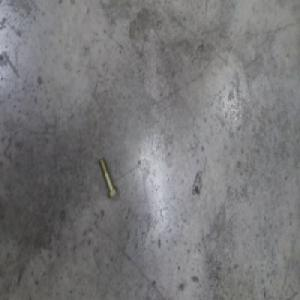Bolt: (98, 156, 117, 200)
